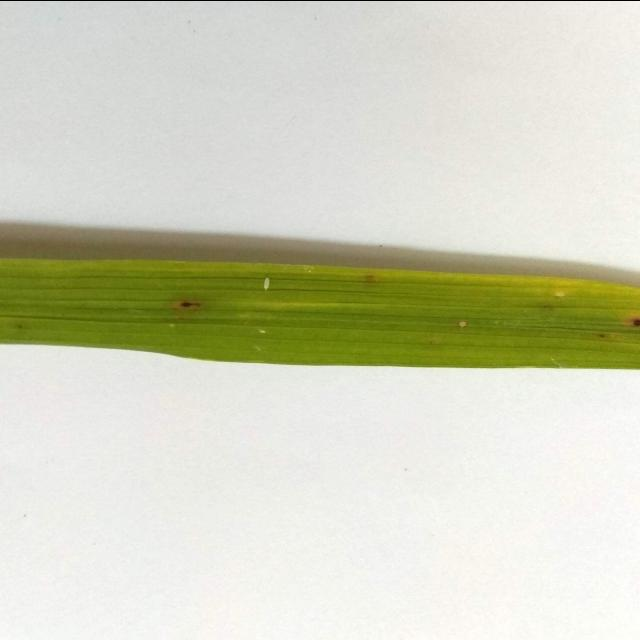Brown spot: (0, 172, 640, 442)
